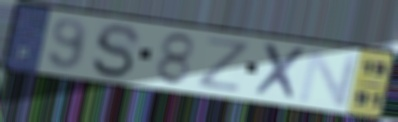8: (155, 31, 197, 86)
9: (47, 17, 89, 73)
N: (295, 47, 363, 108)
S: (89, 22, 144, 80)
X: (251, 41, 310, 104)
Z: (194, 35, 253, 95)
